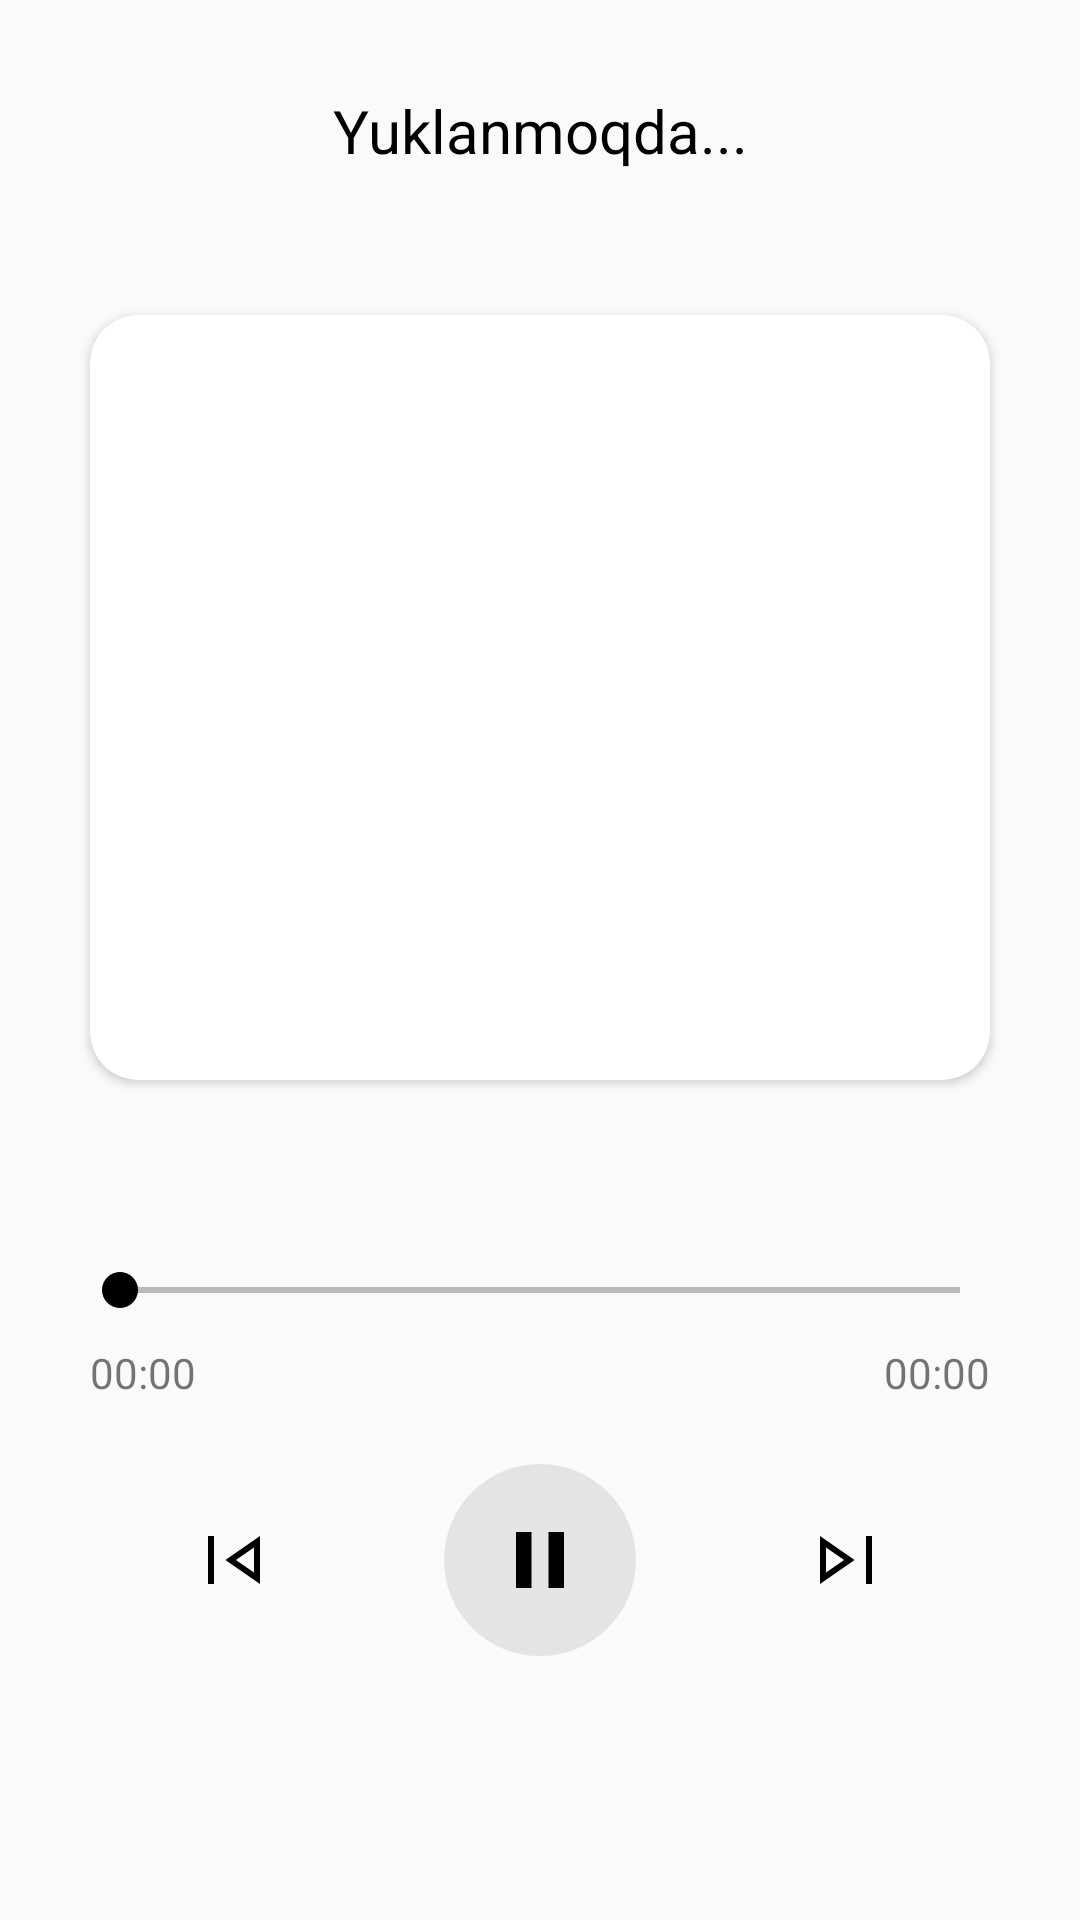

Where to tap for icons on this 1080px×1920px app screen, as point (x, y):
next: point (846, 1560)
pause notif: point (540, 1560)
previous: point (234, 1560)
